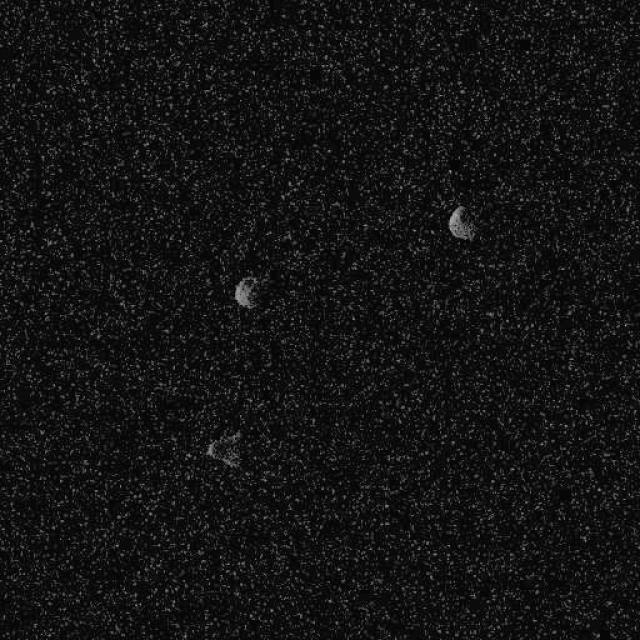D2: (204, 429, 242, 470), (447, 204, 478, 241), (232, 275, 260, 309)
